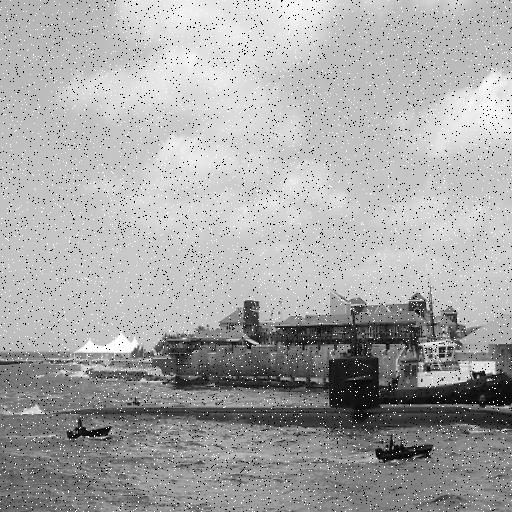submarine: (1, 354, 512, 437)
